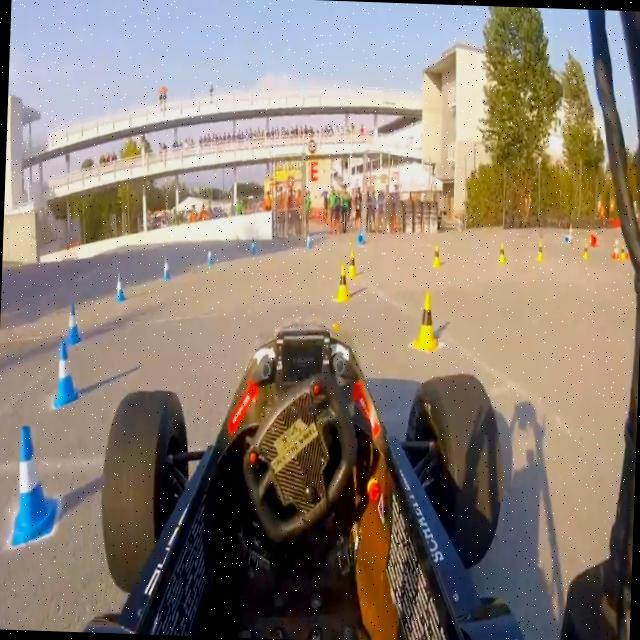blue_cone: (9, 424, 64, 554), (46, 342, 79, 412), (62, 300, 82, 346), (114, 272, 128, 304), (162, 256, 172, 280), (249, 240, 256, 260), (356, 232, 366, 245), (206, 248, 213, 266), (305, 232, 312, 250), (564, 234, 570, 244)
large_orange_cone: (589, 232, 603, 248), (611, 237, 620, 260)
yellow_cone: (414, 290, 438, 354), (334, 264, 350, 302), (347, 250, 359, 280), (431, 244, 442, 270), (497, 242, 508, 267), (535, 242, 543, 262), (582, 242, 588, 259), (620, 244, 626, 260)
